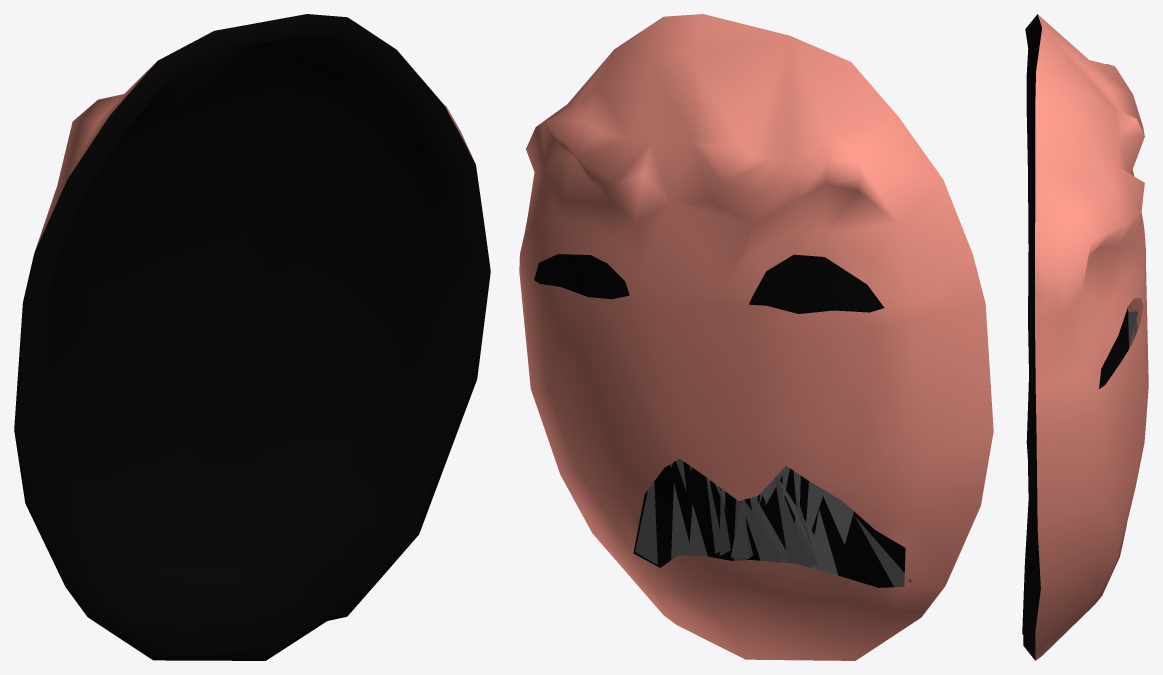
Rendered from Mask_01.fbx.
3 views of the same model, side by side, from view 1: azimuth 30°, elevation 25°; view 2: azimuth 150°, elevation 25°; view 3: azimuth 270°, elevation 25° (orthographic). The views are drawn at different scales.
Parts seen in each view (by area): view 1: Masks_01; view 2: Masks_01; view 3: Masks_01.
Boxes of the visible parts, <box> form: Masks_01: <box>14,14,490,660</box>; Masks_01: <box>519,14,993,660</box>; Masks_01: <box>1022,14,1148,660</box>.
Bounding box in the file's own units: 27.17 × 34.87 × 6.7.
